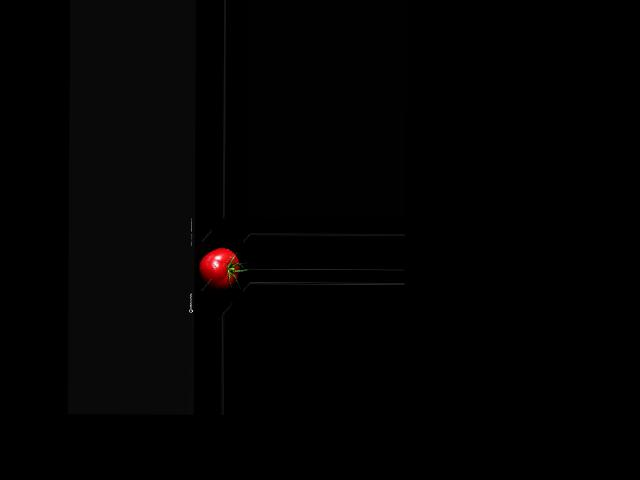tomato: (198, 247, 239, 290)
